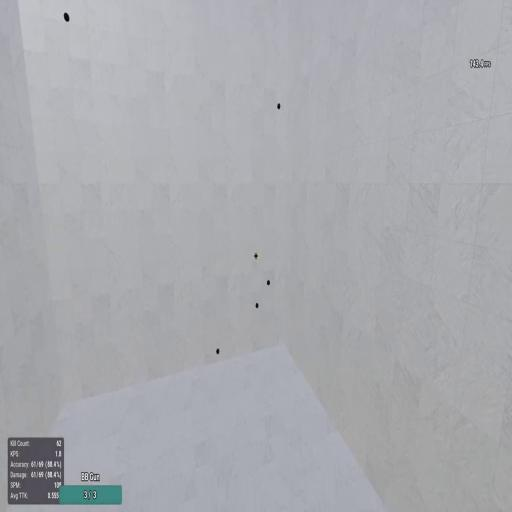Crosshair: (253, 252, 259, 261)
Target: (62, 11, 71, 23), (277, 102, 281, 110), (216, 348, 220, 354), (255, 302, 259, 308), (267, 280, 270, 285)
